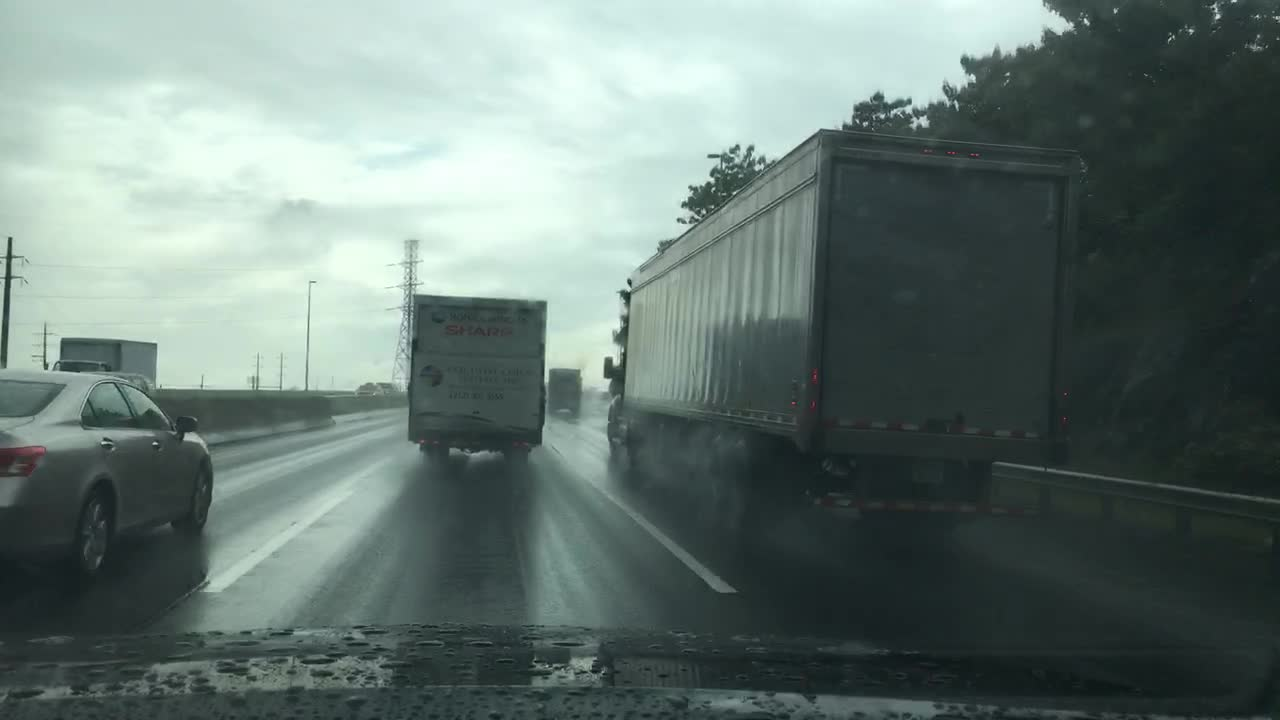car: (0, 367, 213, 587), (84, 369, 156, 393), (354, 382, 380, 395), (376, 381, 396, 393)
truck: (602, 127, 1081, 559), (407, 292, 548, 465), (50, 334, 158, 388), (547, 367, 581, 413)
